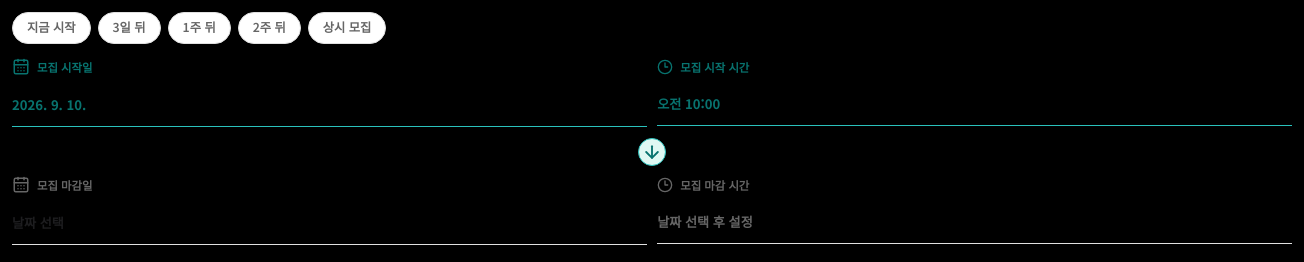
DateRangePicker › Given a start date, When 3일 뒤 is selected, Then the matching local end date is shown
Step 1. Click the button "3일 뒤" → click(129, 28), box [98, 12, 161, 44]
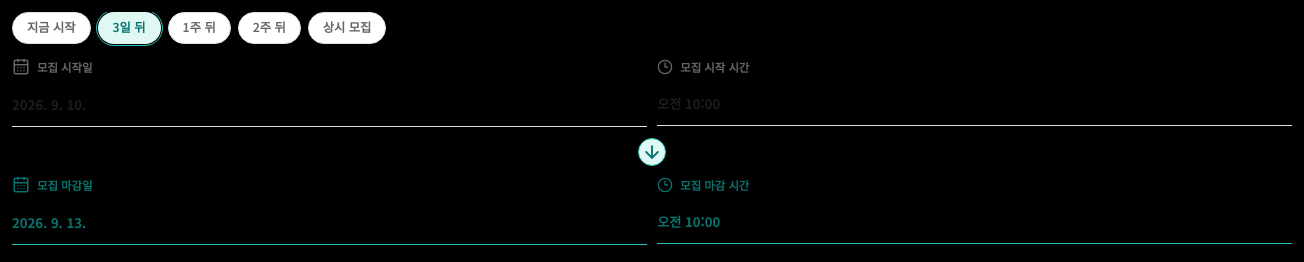
Now the button named "모집 마감일 선택" reads "2026. 9. 13.", box [12, 201, 647, 245]
Now the button with aria-label "모집 마감 시간 선택" reads "오전 10:00", box [657, 200, 1292, 244]
